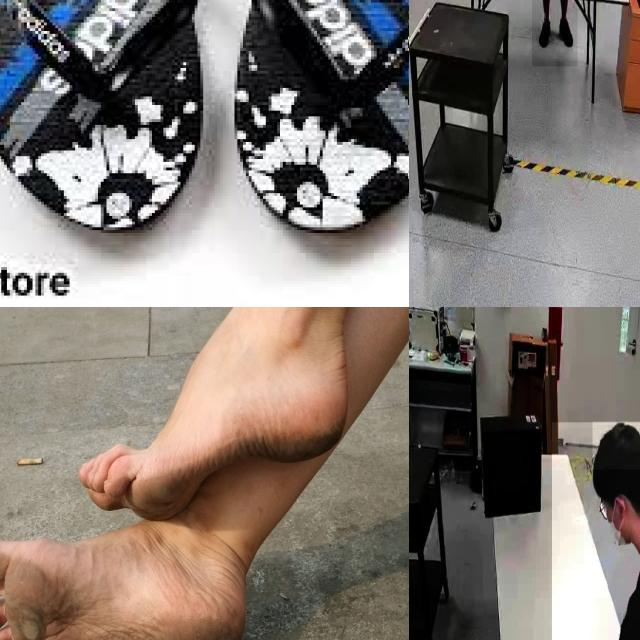Barefoots: (79, 336, 348, 522), (0, 528, 245, 640)
Sandals: (0, 0, 409, 292)
head_nohelmet: (592, 421, 640, 470)
person: (552, 422, 640, 640), (532, 0, 578, 67)
shoes: (557, 13, 576, 49), (536, 14, 553, 50)
